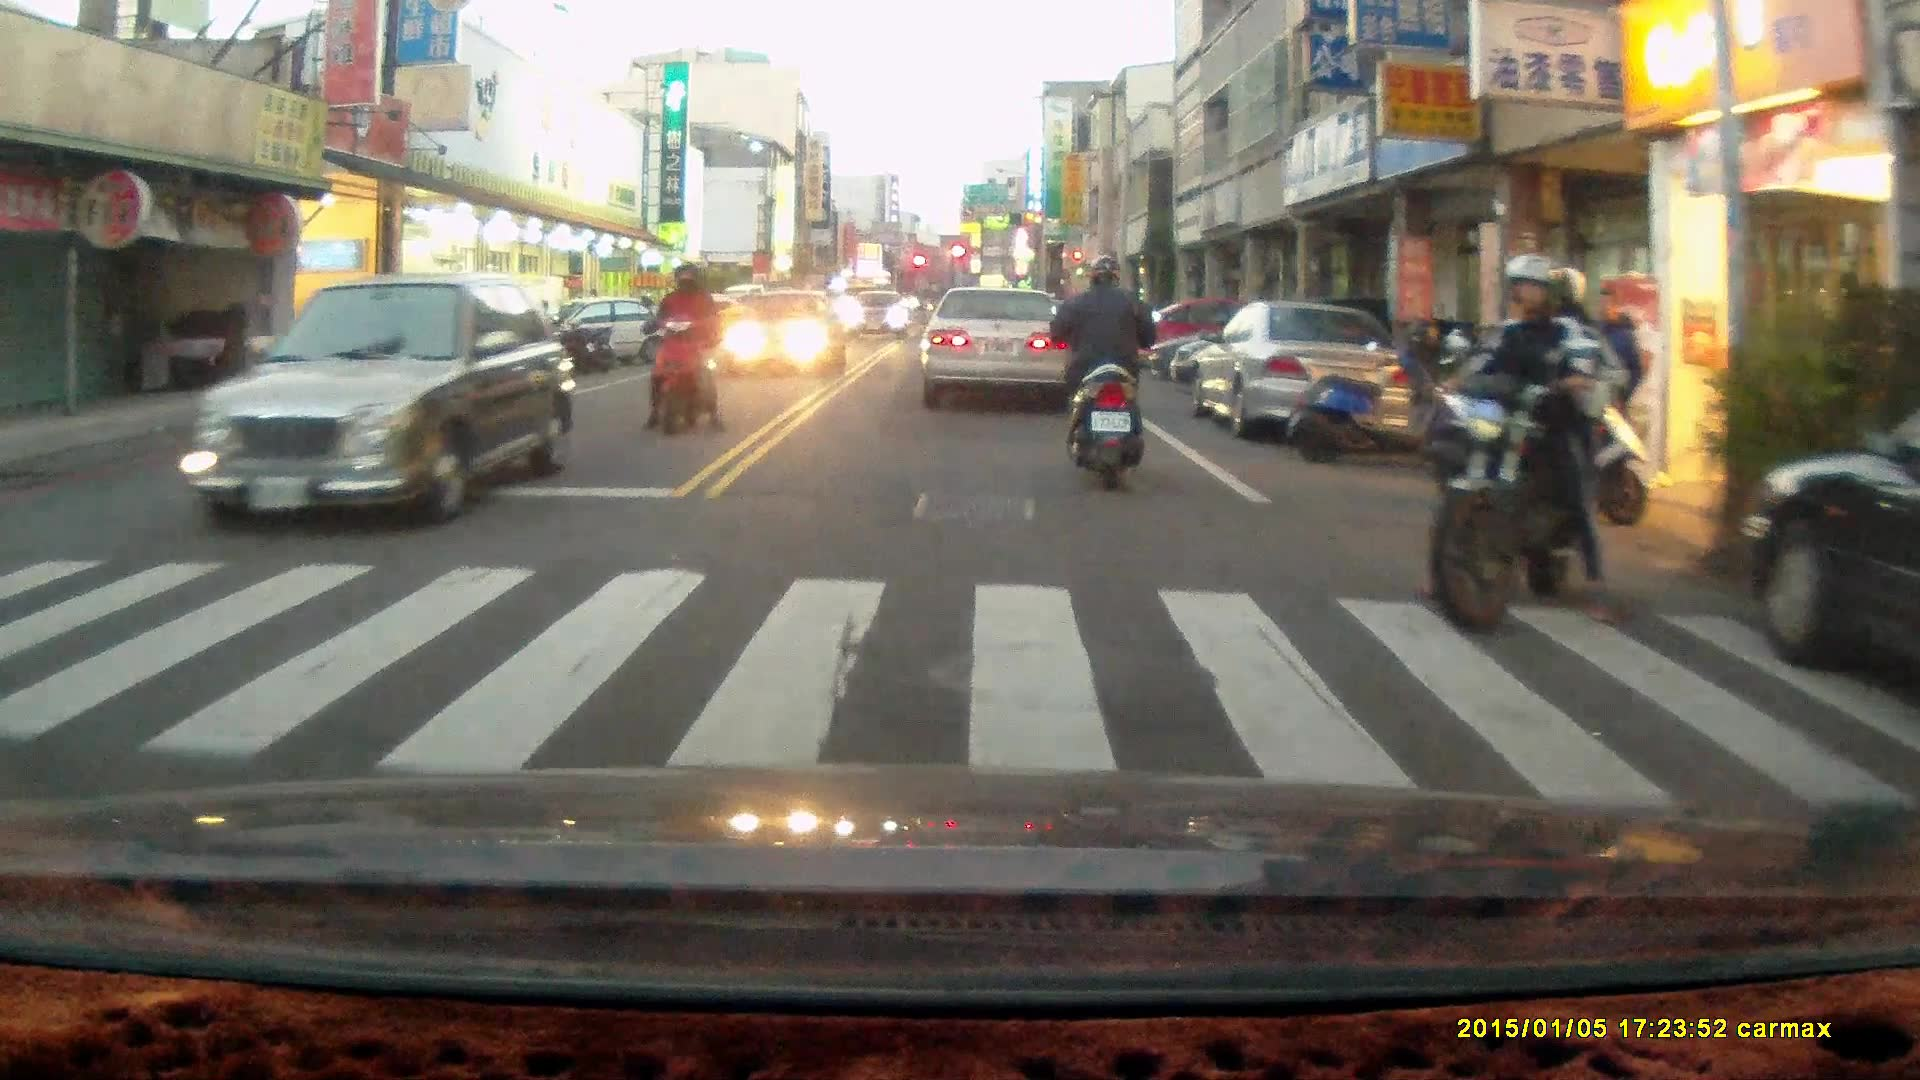pedestrian: (1583, 283, 1645, 485)
rider: (1428, 254, 1629, 625), (1046, 250, 1162, 487), (639, 260, 725, 437)
vehicle: (186, 272, 577, 532), (1728, 399, 1920, 673), (1198, 304, 1422, 446), (925, 286, 1080, 389), (716, 286, 842, 377), (842, 288, 918, 346)
